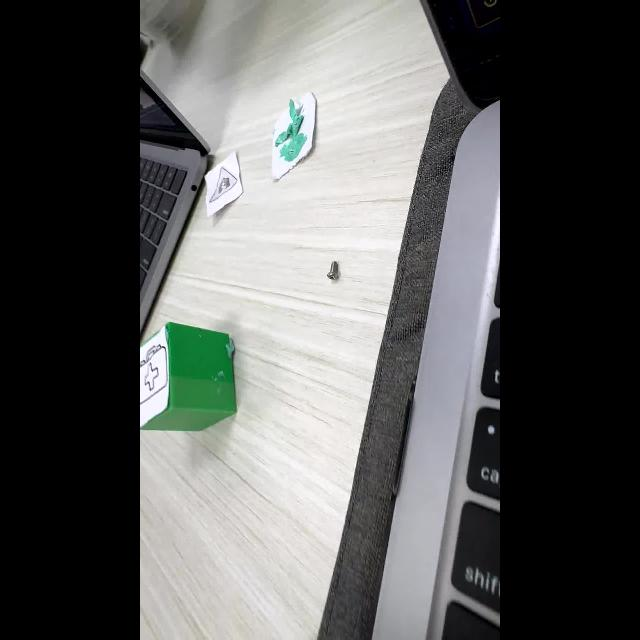Medkit: (140, 344, 168, 407)
